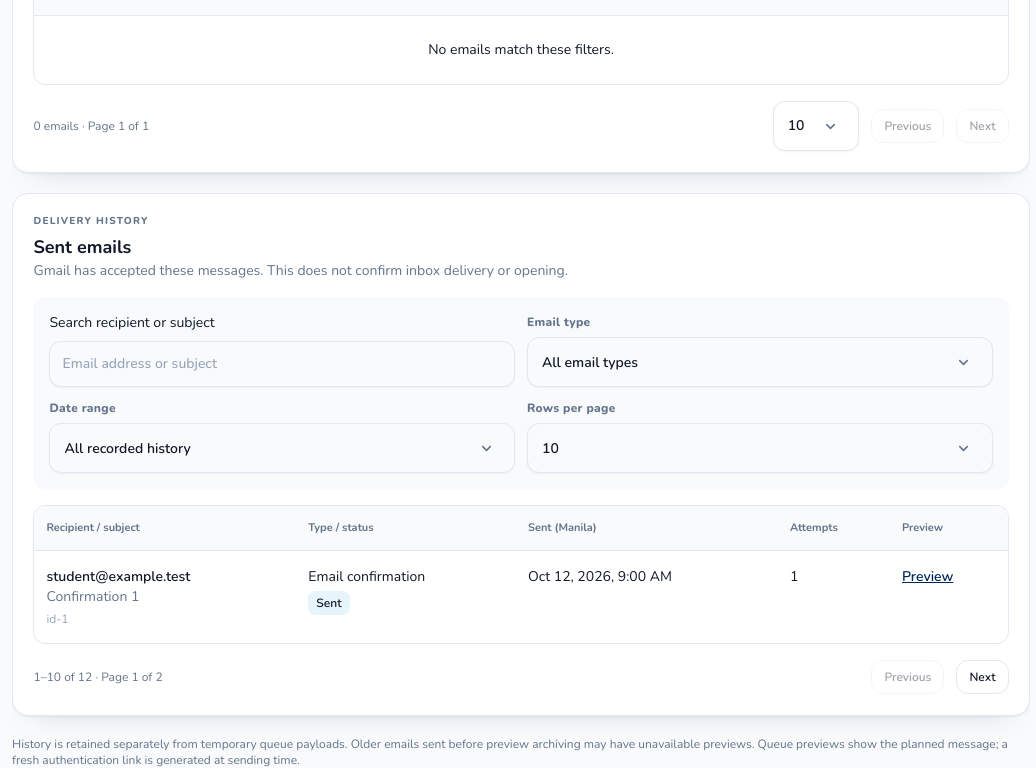
Test: loads separate server-paginated tables and requests the next sent page
(page scrolled)
expect the text "Confirmation 1" is shown: met, box left=46, top=587, right=139, bottom=606
Click the button "Next" in the row of "1–10 of 12": (982, 677) left=956, top=660, right=1008, bottom=694
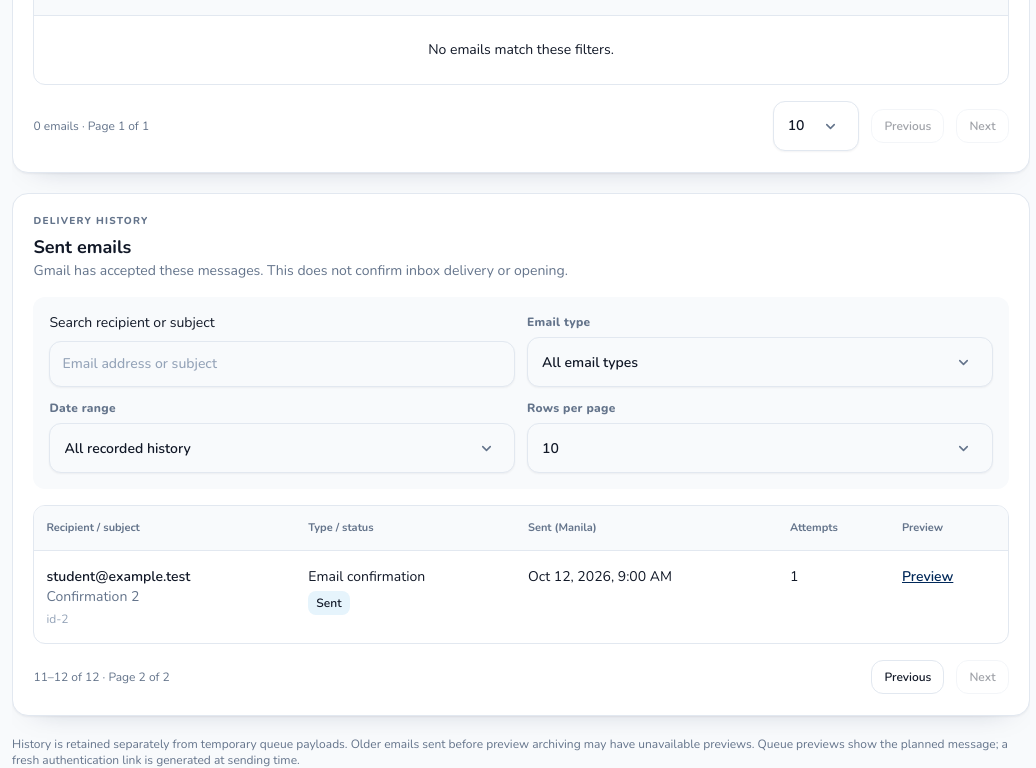
expect the text "Confirmation 2" is shown: met, box left=46, top=587, right=139, bottom=606
